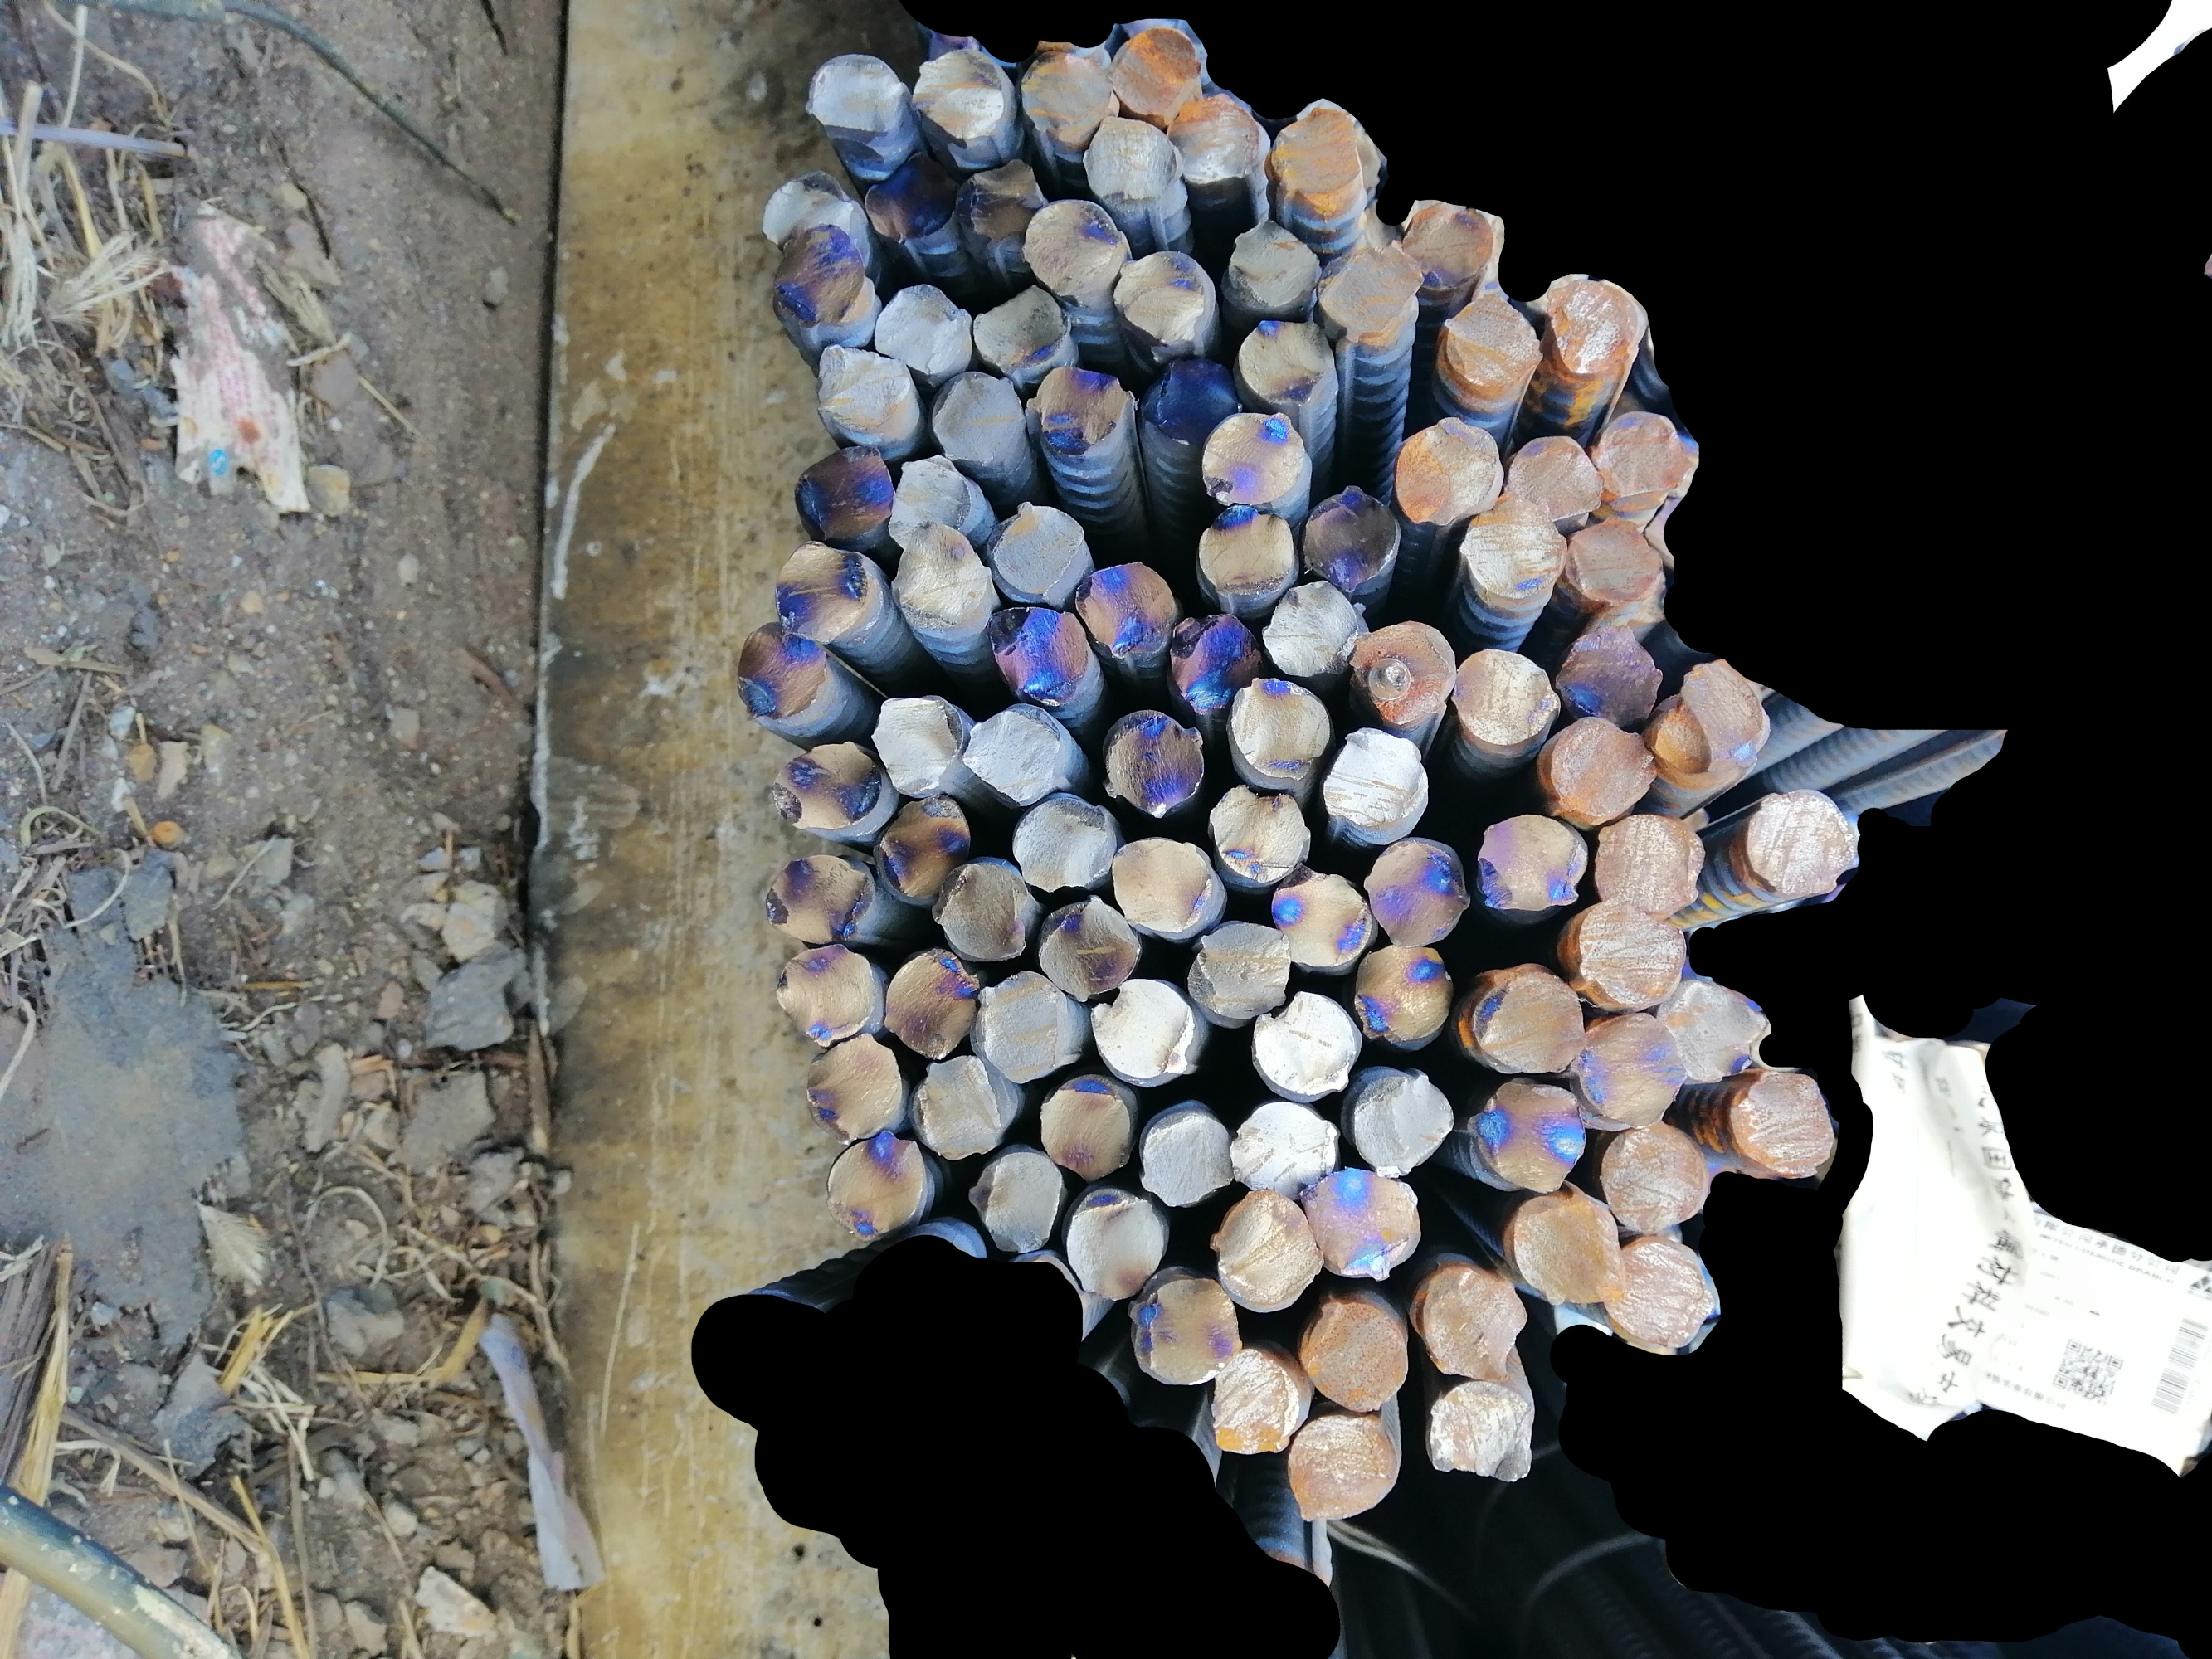rebar: (1651, 650, 1778, 786), (1206, 1175, 1327, 1316), (1297, 1161, 1424, 1284), (1572, 1000, 1691, 1133), (1276, 1403, 1403, 1525), (1503, 1187, 1630, 1309), (1466, 1072, 1590, 1195), (1309, 725, 1435, 847), (1119, 1269, 1245, 1391), (1412, 1255, 1532, 1382), (1537, 709, 1665, 826), (1740, 782, 1862, 903), (797, 335, 922, 450), (1593, 807, 1713, 925), (1652, 969, 1773, 1087), (1569, 897, 1691, 1014), (1602, 1232, 1715, 1358), (1218, 1093, 1346, 1204), (1455, 484, 1572, 603), (1358, 836, 1476, 953), (1032, 890, 1149, 1007), (1222, 1094, 1346, 1204), (967, 962, 1074, 1089), (1084, 972, 1199, 1089), (1299, 1298, 1410, 1419), (1063, 1176, 1166, 1305), (1469, 964, 1586, 1077), (1597, 1121, 1713, 1234), (1422, 1373, 1537, 1486), (1551, 619, 1668, 730), (1722, 1068, 1839, 1180), (1351, 606, 1461, 725), (1246, 990, 1367, 1098), (1271, 99, 1370, 230), (769, 209, 875, 331), (1389, 413, 1503, 526), (1224, 669, 1335, 784), (1194, 404, 1313, 512), (1452, 638, 1564, 751), (818, 1129, 929, 1243), (1473, 809, 1590, 917), (1300, 476, 1405, 596), (882, 943, 987, 1063), (1347, 1068, 1459, 1180), (1264, 859, 1374, 972), (1105, 828, 1220, 936), (797, 1033, 905, 1148), (953, 704, 1067, 812), (772, 934, 880, 1047), (1096, 709, 1211, 816), (1004, 795, 1123, 897), (866, 277, 978, 385), (1314, 235, 1426, 343), (727, 613, 837, 721), (854, 692, 964, 800), (1541, 268, 1649, 378), (763, 739, 887, 835), (1011, 45, 1123, 152), (966, 274, 1077, 380), (786, 441, 899, 545), (1182, 920, 1295, 1025), (1166, 612, 1269, 727), (1137, 1096, 1239, 1211), (889, 519, 995, 629), (1203, 779, 1313, 885), (1069, 558, 1180, 662), (1353, 934, 1457, 1046), (980, 601, 1093, 704), (905, 1047, 1006, 1162), (924, 366, 1037, 467), (757, 852, 877, 946), (933, 856, 1039, 962), (1020, 193, 1124, 301), (1442, 293, 1550, 397), (1034, 1073, 1135, 1185), (1191, 500, 1297, 605), (1560, 507, 1665, 613), (1232, 308, 1337, 413), (1110, 247, 1217, 350), (1588, 411, 1694, 514), (912, 44, 1011, 153), (1393, 197, 1503, 296), (1135, 349, 1245, 448), (1021, 361, 1131, 460), (1204, 1342, 1295, 1462), (1260, 577, 1361, 683), (856, 148, 966, 246), (772, 538, 870, 647), (964, 1147, 1060, 1256), (1163, 89, 1265, 190), (882, 446, 983, 549), (988, 502, 1093, 601), (1100, 24, 1206, 122), (879, 793, 971, 904), (1503, 425, 1607, 523), (1075, 112, 1185, 204), (1225, 218, 1330, 312), (950, 153, 1049, 247), (802, 49, 903, 138), (757, 171, 856, 254)
